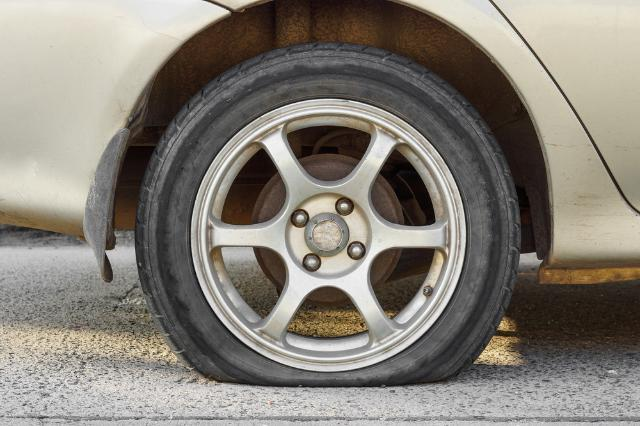tire flat: (136, 38, 519, 389)
